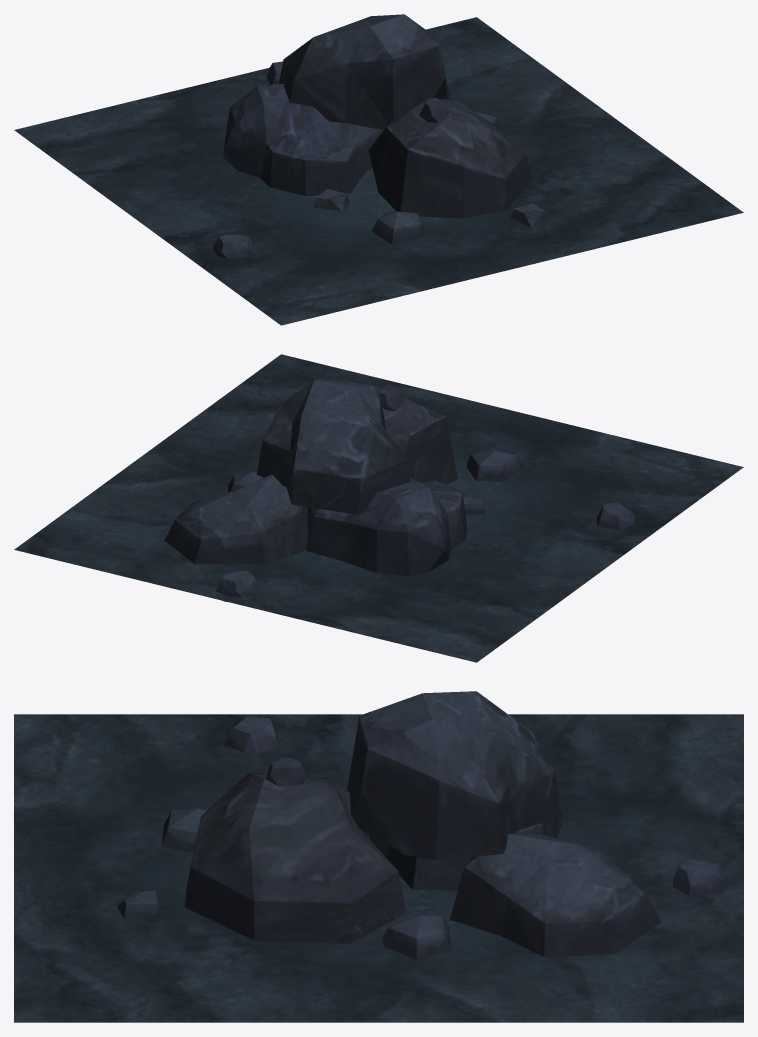
The model's file is mine_rubble_08.fbx.
3 renders of one model, top to bottom at view 1: azimuth 30°, elevation 25°; view 2: azimuth 150°, elevation 25°; view 3: azimuth 270°, elevation 25°, orthographic. The views are drawn at different scales.
Parts seen in each view (by area): view 1: obj1.042; view 2: obj1.042; view 3: obj1.042.
Boxes of the visible parts, x1=… form: obj1.042: x1=14, y1=14, x2=743, y2=325; obj1.042: x1=14, y1=354, x2=743, y2=662; obj1.042: x1=14, y1=691, x2=743, y2=1022.
Bounding box in the file's own units: 4 × 1.14 × 4.
